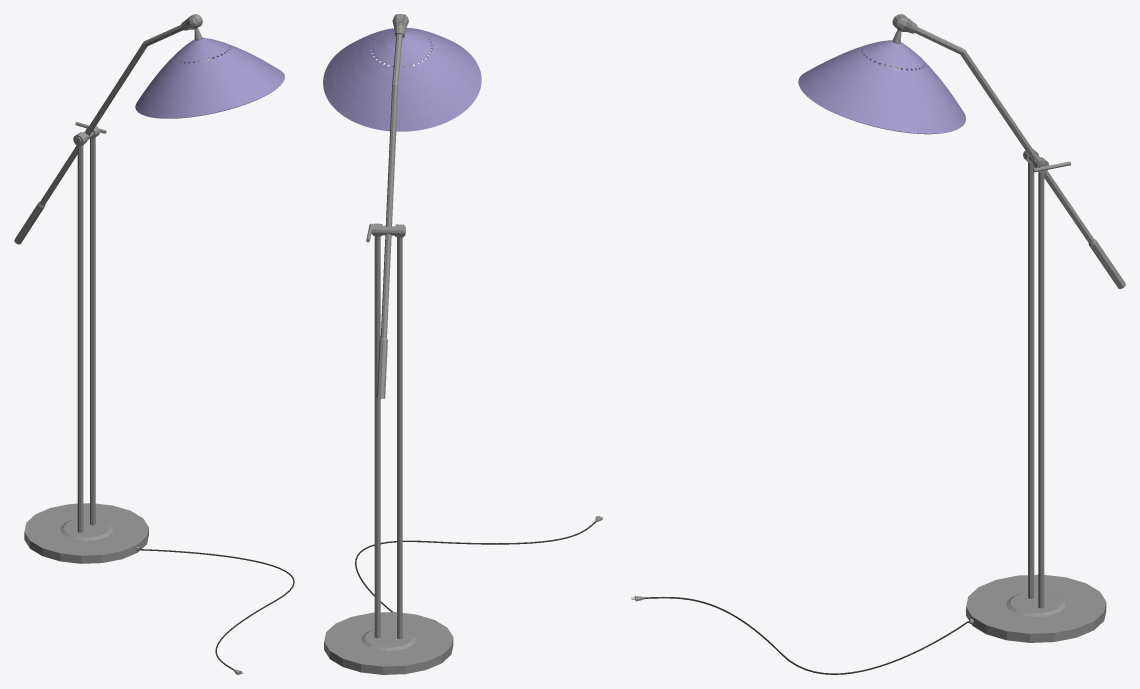
Rendered from Torchere Delightfull Armstrong N220816.obj.
3 views of the same model, side by side, from view 1: azimuth 30°, elevation 25°; view 2: azimuth 150°, elevation 25°; view 3: azimuth 270°, elevation 25° (orthographic). The views are drawn at different scales.
Visible parts, largest first — view 1: Delightfull_Armstrong, Object01, Object02; view 2: Delightfull_Armstrong, Object01, Object02; view 3: Delightfull_Armstrong, Object01, Object02.
Boxes of the visible parts, x1,y1,x2,y2 form: Delightfull_Armstrong: [14, 14, 243, 674]; Object01: [135, 37, 284, 118]; Object02: [139, 548, 294, 670]; Delightfull_Armstrong: [324, 14, 602, 674]; Object01: [323, 27, 481, 131]; Object02: [355, 521, 596, 611]; Delightfull_Armstrong: [631, 14, 1125, 642]; Object01: [798, 40, 965, 134]; Object02: [645, 596, 970, 674].
Size of the model in its own units: 566 by 1715 by 1230.
